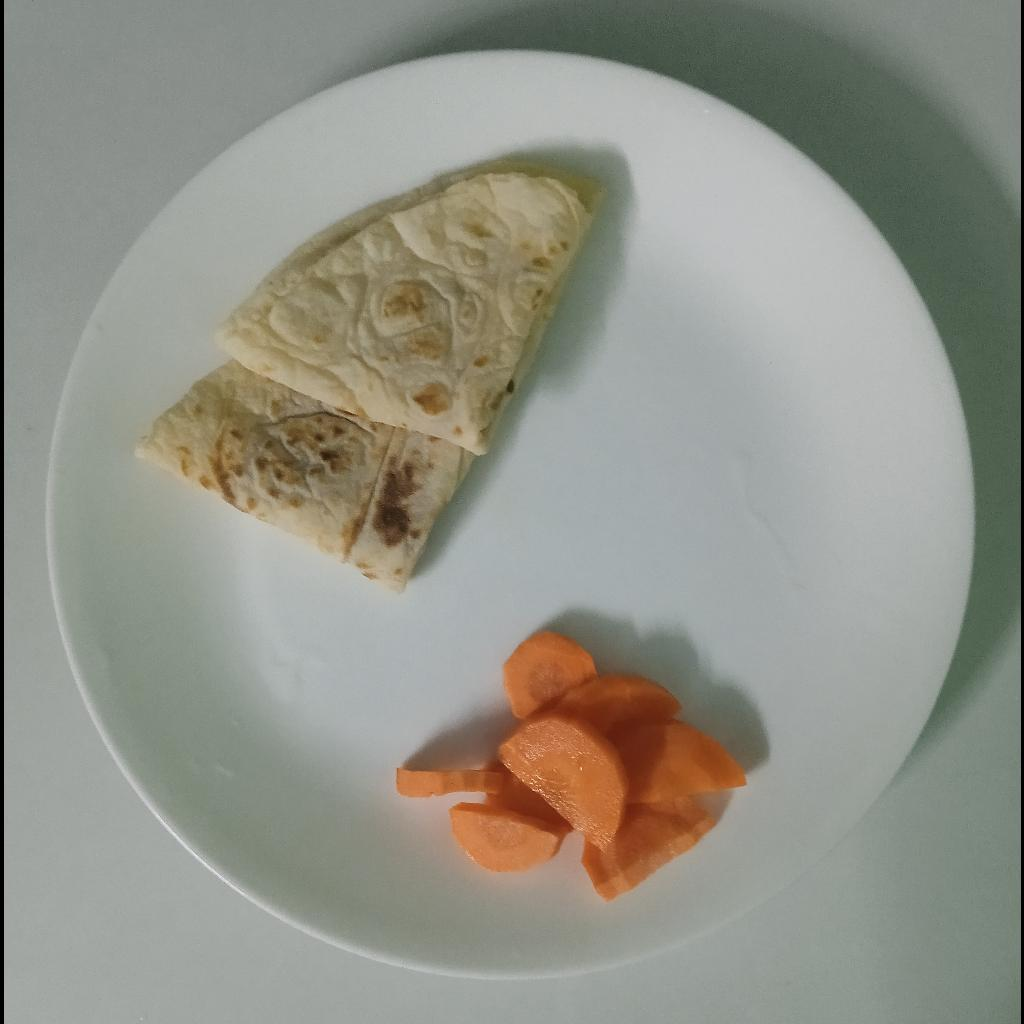carrot: (393, 634, 749, 903)
ruti: (133, 157, 600, 594)
